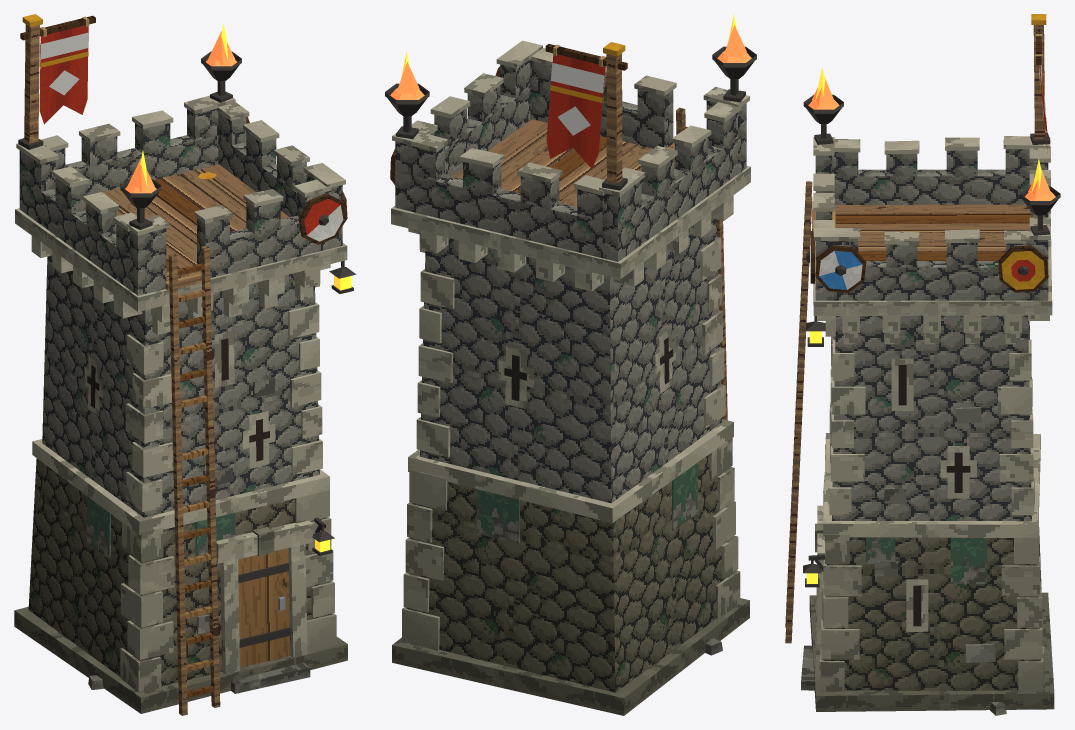
Rendered from defense_tower_3.glb.
3 views of the same model, side by side, from view 1: azimuth 30°, elevation 25°; view 2: azimuth 150°, elevation 25°; view 3: azimuth 270°, elevation 25° (orthographic). The views are drawn at different scales.
Visible parts, largest first — view 1: defense_tower_3, sway_banner, glow_fire, glow_fire_2; view 2: defense_tower_3, sway_banner, glow_fire, glow_fire_2; view 3: defense_tower_3, glow_fire, glow_fire_2.
Part boxes in pixels (bbox=[...]): defense_tower_3: bbox=[14, 14, 356, 715]; sway_banner: bbox=[39, 25, 88, 124]; glow_fire: bbox=[125, 150, 156, 193]; glow_fire_2: bbox=[206, 23, 236, 66]; defense_tower_3: bbox=[385, 40, 756, 715]; sway_banner: bbox=[546, 54, 605, 168]; glow_fire: bbox=[717, 15, 751, 62]; glow_fire_2: bbox=[390, 51, 424, 99]; defense_tower_3: bbox=[785, 14, 1060, 715]; glow_fire: bbox=[808, 67, 839, 109]; glow_fire_2: bbox=[1025, 158, 1055, 200].
Bounding box in the file's own units: 3.55 × 8.97 × 3.74.
33 materials, 21 textured.
